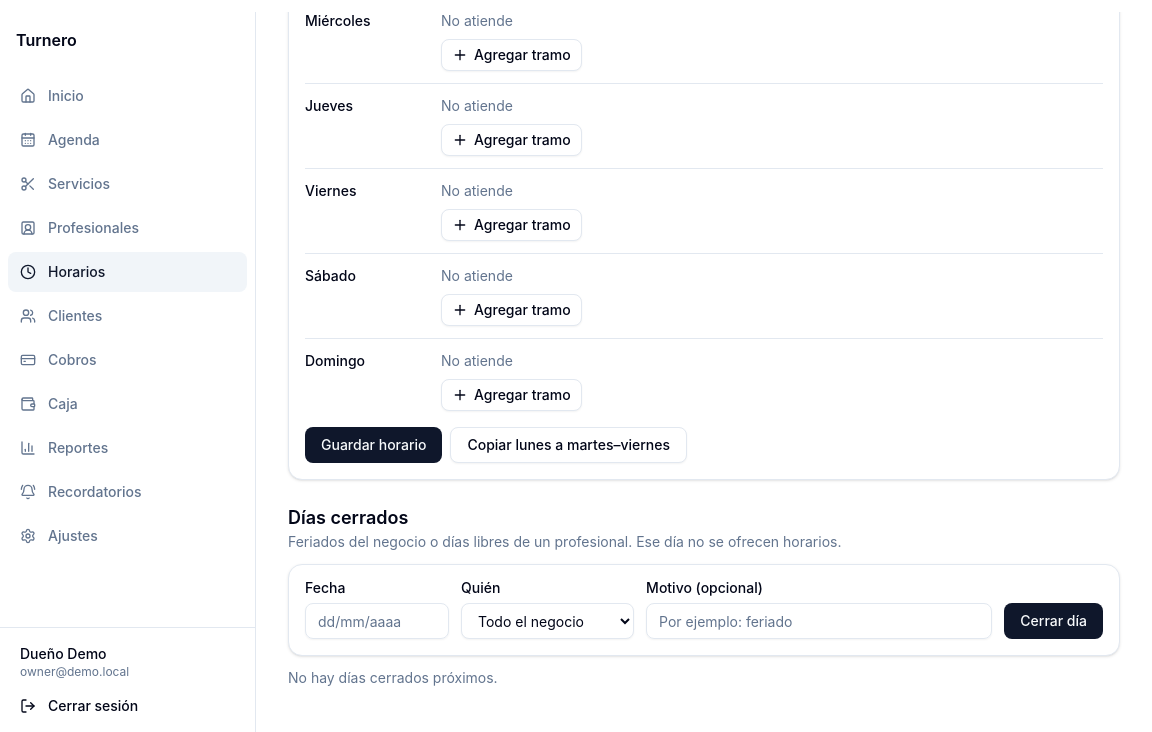
schedules page: weekly hours › shows the API error when saving fails
(page scrolled)
Click the button "Guardar horario".
click(374, 445)  # box [305,427,442,463]
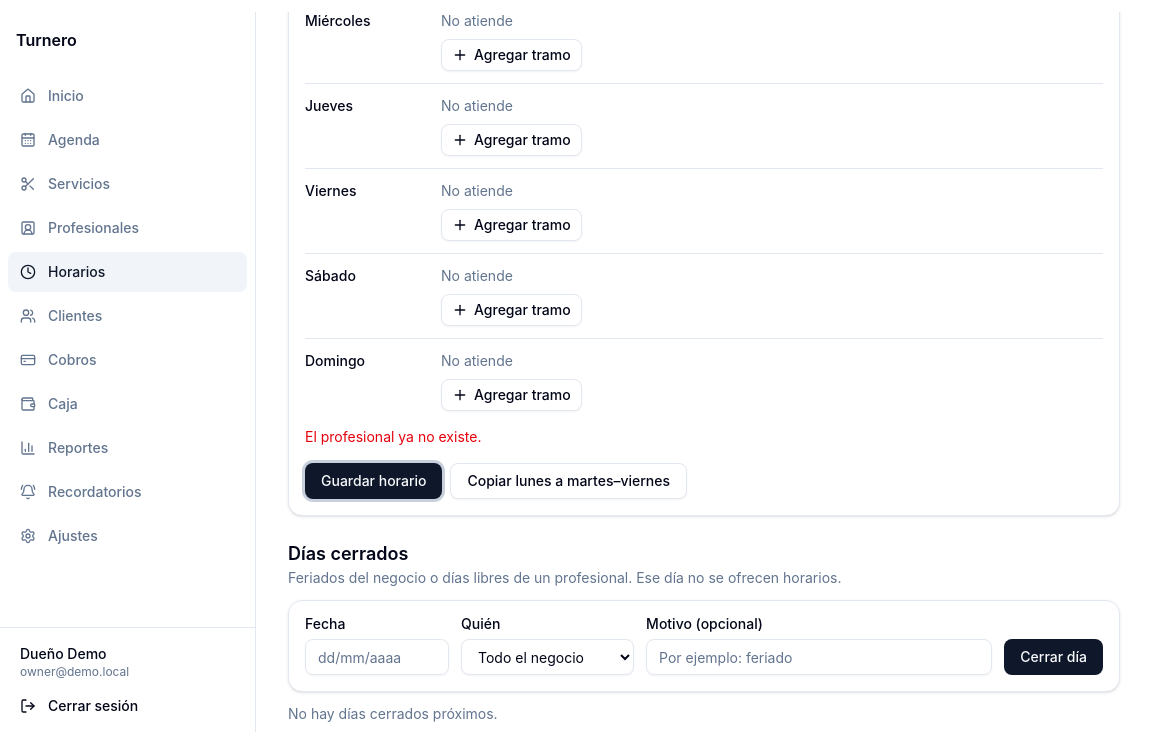
expect the text "El profesional ya no existe." is shown: met, box [305,428,481,445]
